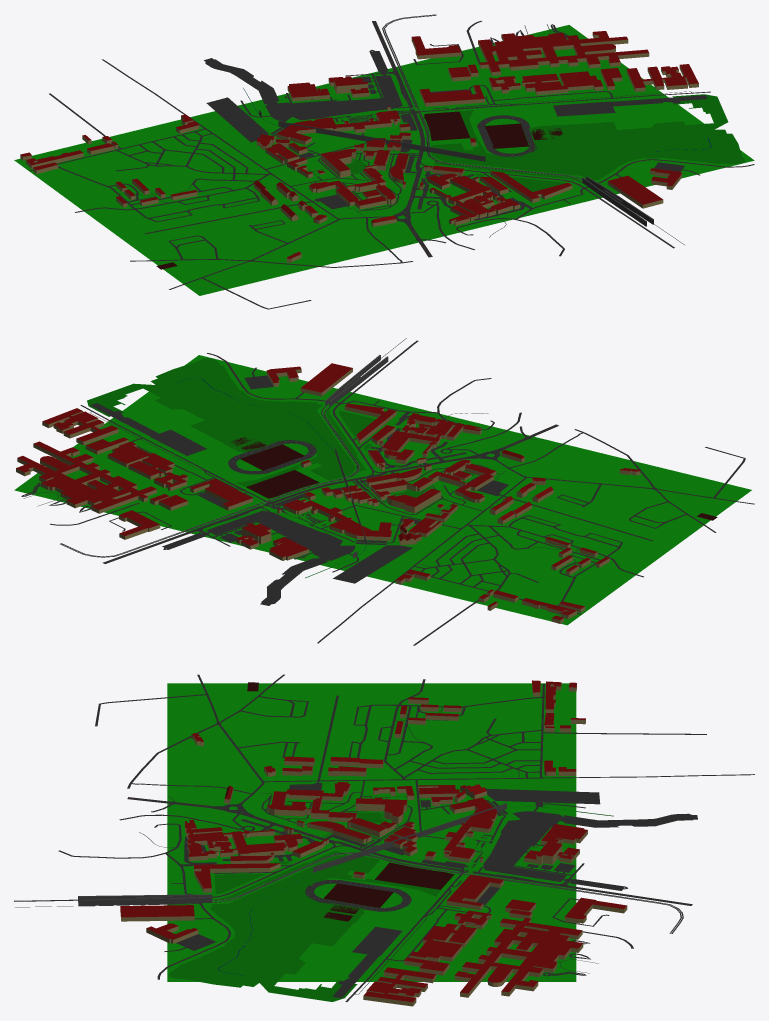
The picture shows the model from 3 angles, top to bottom: view 1: azimuth 30°, elevation 25°; view 2: azimuth 150°, elevation 25°; view 3: azimuth 270°, elevation 25°; orthographic projection. The views are drawn at different scales.
Visible parts, largest first — view 1: SurfaceArea1079, SurfaceArea1080, SurfaceArea1082, SurfaceArea989, SurfaceArea1083, SurfaceArea1086, Building980, SurfaceArea1089, SurfaceArea1078, SurfaceArea1088, SurfaceArea1085, SurfaceParking991 (+24 smaller); view 2: SurfaceArea1079, SurfaceArea1080, SurfaceArea1082, SurfaceArea989, SurfaceArea1083, SurfaceArea1086, Building980, SurfaceArea1078, SurfaceArea1089, SurfaceArea1088, SurfaceArea1085, SurfaceParking991 (+21 smaller); view 3: SurfaceArea1079, SurfaceArea1080, SurfaceArea1082, SurfaceArea989, SurfaceArea1083, SurfaceArea1086, Building980, SurfaceArea1078, SurfaceArea1089, SurfaceArea1085, SurfaceArea1088, SurfaceParking991 (+27 smaller).
Part boxes in pixels (left/top/right/bottom): SurfaceArea1079: left=115, top=198, right=345, bottom=295; SurfaceArea1080: left=31, top=137, right=260, bottom=234; SurfaceArea1082: left=262, top=163, right=491, bottom=260; SurfaceArea989: left=431, top=110, right=744, bottom=180; SurfaceArea1083: left=177, top=114, right=397, bottom=198; SurfaceArea1086: left=325, top=66, right=550, bottom=162; Building980: left=478, top=31, right=649, bottom=75; SurfaceArea1089: left=474, top=37, right=668, bottom=125; SurfaceArea1078: left=507, top=94, right=728, bottom=159; SurfaceArea1088: left=564, top=102, right=754, bottom=187; SurfaceArea1085: left=412, top=135, right=619, bottom=224; SurfaceParking991: left=265, top=75, right=402, bottom=122; SurfaceArea1079: left=523, top=454, right=751, bottom=551; SurfaceArea1080: left=439, top=516, right=667, bottom=612; SurfaceArea1082: left=384, top=419, right=606, bottom=515; SurfaceArea989: left=150, top=358, right=355, bottom=486; SurfaceArea1083: left=312, top=486, right=521, bottom=577; SurfaceArea1086: left=147, top=447, right=368, bottom=538; Building980: left=16, top=441, right=156, bottom=513; SurfaceArea1078: left=87, top=383, right=315, bottom=452; SurfaceArea1089: left=31, top=417, right=228, bottom=506; SurfaceArea1088: left=121, top=355, right=307, bottom=442; SurfaceArea1085: left=266, top=387, right=460, bottom=478; SurfaceParking991: left=206, top=510, right=355, bottom=560; SurfaceArea1079: left=167, top=683, right=352, bottom=761; SurfaceArea1080: left=353, top=683, right=538, bottom=761; SurfaceArea1082: left=167, top=762, right=352, bottom=840; SurfaceArea989: left=168, top=855, right=440, bottom=987; SurfaceArea1083: left=353, top=762, right=538, bottom=840; SurfaceArea1086: left=353, top=834, right=538, bottom=918; Building980: left=454, top=917, right=583, bottom=997; SurfaceArea1078: left=259, top=884, right=364, bottom=1001; SurfaceArea1089: left=353, top=919, right=538, bottom=981; SurfaceArea1085: left=167, top=840, right=352, bottom=918; SurfaceArea1088: left=167, top=919, right=352, bottom=981; SurfaceParking991: left=483, top=811, right=566, bottom=881.
Bounding box in the file's own units: 1268 × 16 × 1196.
